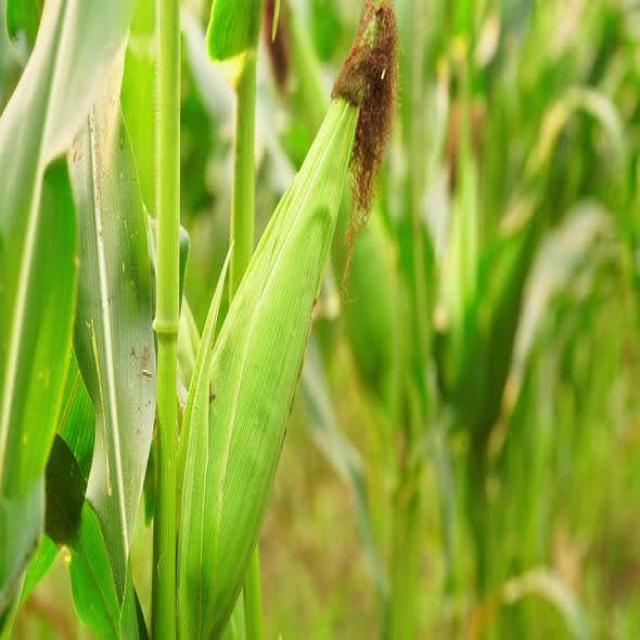Corn: (122, 11, 410, 594)
